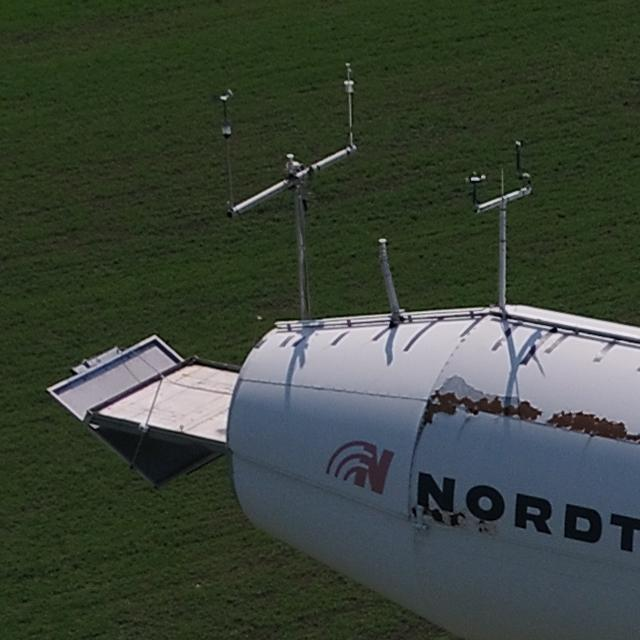damage: (412, 372, 544, 433), (545, 409, 640, 445), (418, 502, 447, 527), (448, 507, 467, 531), (408, 503, 418, 519)
